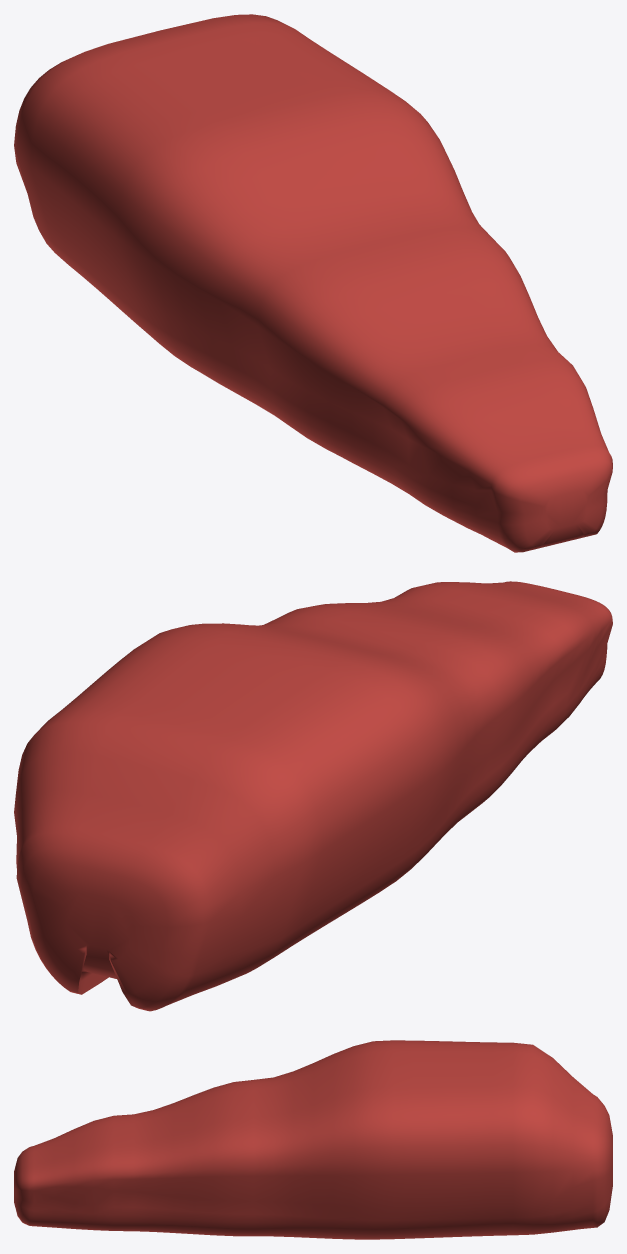
Rendered from race.glb.
The picture shows the model from 3 angles, top to bottom: view 1: azimuth 30°, elevation 25°; view 2: azimuth 150°, elevation 25°; view 3: azimuth 270°, elevation 25°; orthographic projection. The views are drawn at different scales.
Visible parts, largest first — view 1: lod0; view 2: lod0; view 3: lod0.
Boxes of the visible parts, bbox=[...] form: lod0: bbox=[14, 14, 612, 552]; lod0: bbox=[14, 581, 612, 1011]; lod0: bbox=[14, 1040, 612, 1239].
Size of what is drawn, in the model's own units: 0.3794 by 0.2745 by 1.
